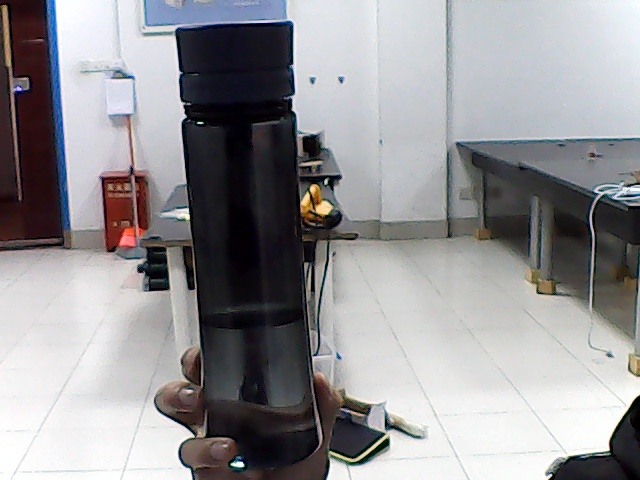cup: (171, 28, 293, 65)
